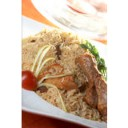briyani: (21, 29, 106, 119)
